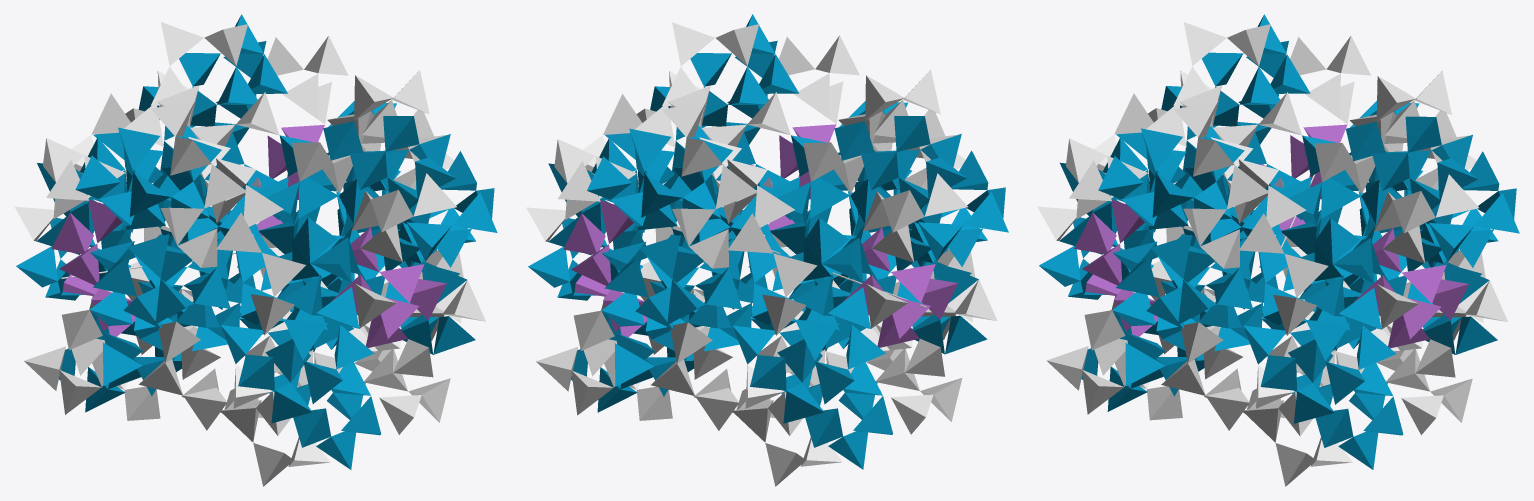
File: Hexamer_WithTwoFoldAxis.fbx
3 renders of one model, left to right at view 1: azimuth 30°, elevation 25°; view 2: azimuth 150°, elevation 25°; view 3: azimuth 270°, elevation 25°, orthographic.
Parts seen in each view (by area): view 1: Monomer01, Monomer06, Monomer05, Monomer03, Monomer02, Monomer04; view 2: Monomer03, Monomer02, Monomer01, Monomer05, Monomer04, Monomer06; view 3: Monomer05, Monomer04, Monomer03, Monomer01, Monomer06, Monomer02.
Part boxes in pixels (x1,y1,x2,y2): Monomer01: (43, 100, 305, 396); Monomer06: (139, 217, 450, 486); Monomer05: (259, 70, 497, 354); Monomer03: (71, 14, 348, 276); Monomer02: (14, 137, 242, 420); Monomer04: (228, 101, 475, 395); Monomer03: (554, 101, 817, 396); Monomer02: (651, 218, 962, 486); Monomer01: (770, 69, 1008, 354); Monomer05: (583, 14, 859, 275); Monomer04: (526, 138, 753, 420); Monomer06: (739, 101, 987, 395); Monomer05: (1065, 101, 1328, 396); Monomer04: (1161, 218, 1472, 486); Monomer03: (1281, 70, 1519, 354); Monomer01: (1094, 14, 1370, 275); Monomer06: (1037, 137, 1264, 420); Monomer02: (1250, 101, 1498, 373).
Size of the model in its own units: 528 by 434 by 529.
